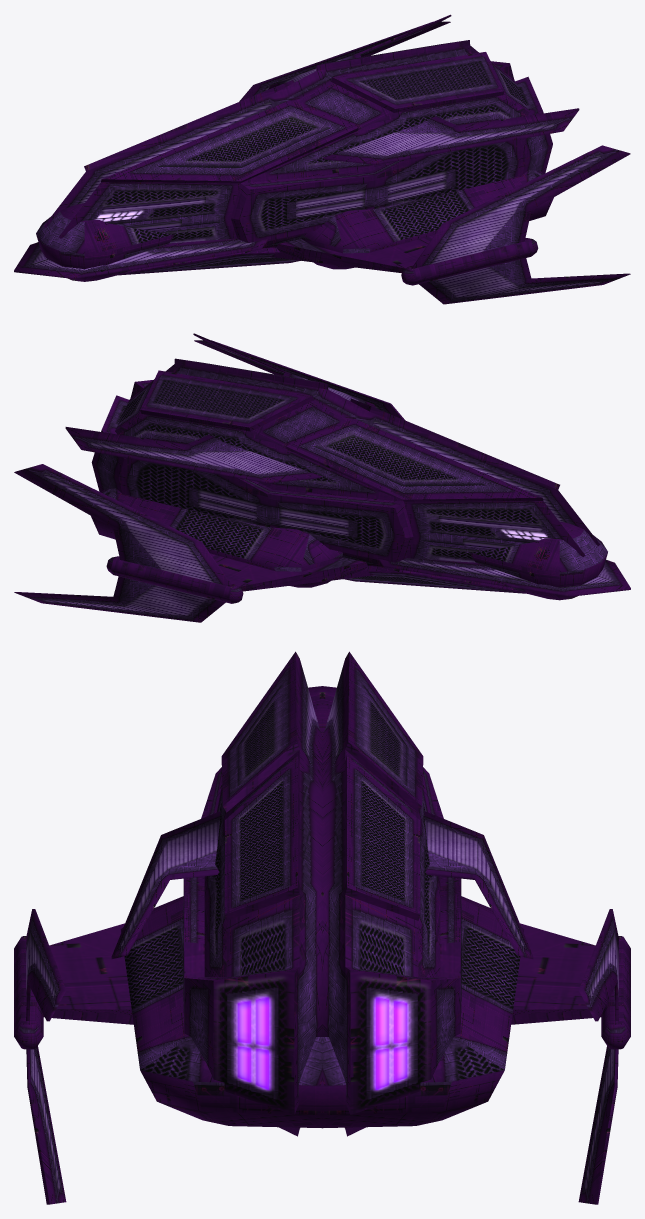
The model's file is traiwyndHeavyCruiser.FBX.
The picture shows the model from 3 angles, top to bottom: view 1: azimuth 30°, elevation 25°; view 2: azimuth 150°, elevation 25°; view 3: azimuth 270°, elevation 25°; orthographic projection. The views are drawn at different scales.
Visible parts, largest first — view 1: Heavy Cruiser; view 2: Heavy Cruiser; view 3: Heavy Cruiser.
Boxes of the visible parts, x1=… form: Heavy Cruiser: x1=14, y1=14, x2=630, y2=304; Heavy Cruiser: x1=14, y1=333, x2=630, y2=622; Heavy Cruiser: x1=14, y1=651, x2=630, y2=1204.
Size of the model in its own units: 39.77 by 14.33 by 26.46.
Materials: 1 (1 with a texture image).
